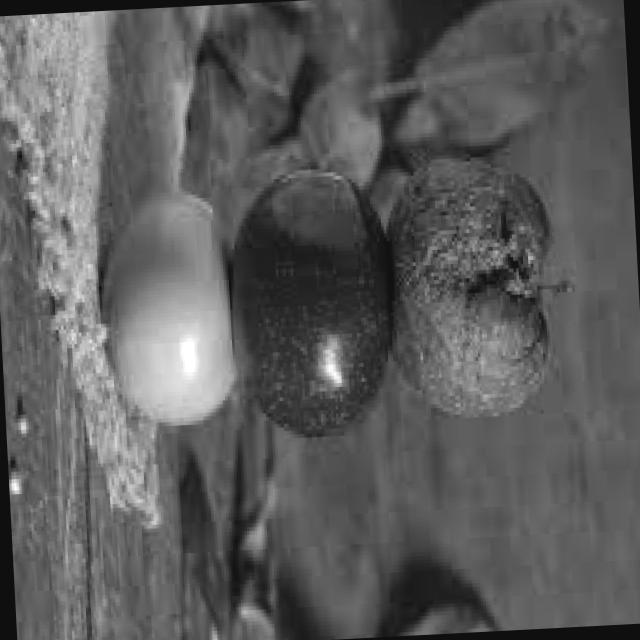Green Juicy Apple: (98, 188, 238, 435)
Red Apple: (227, 160, 396, 454)
Rotten Apple: (386, 150, 556, 420)
